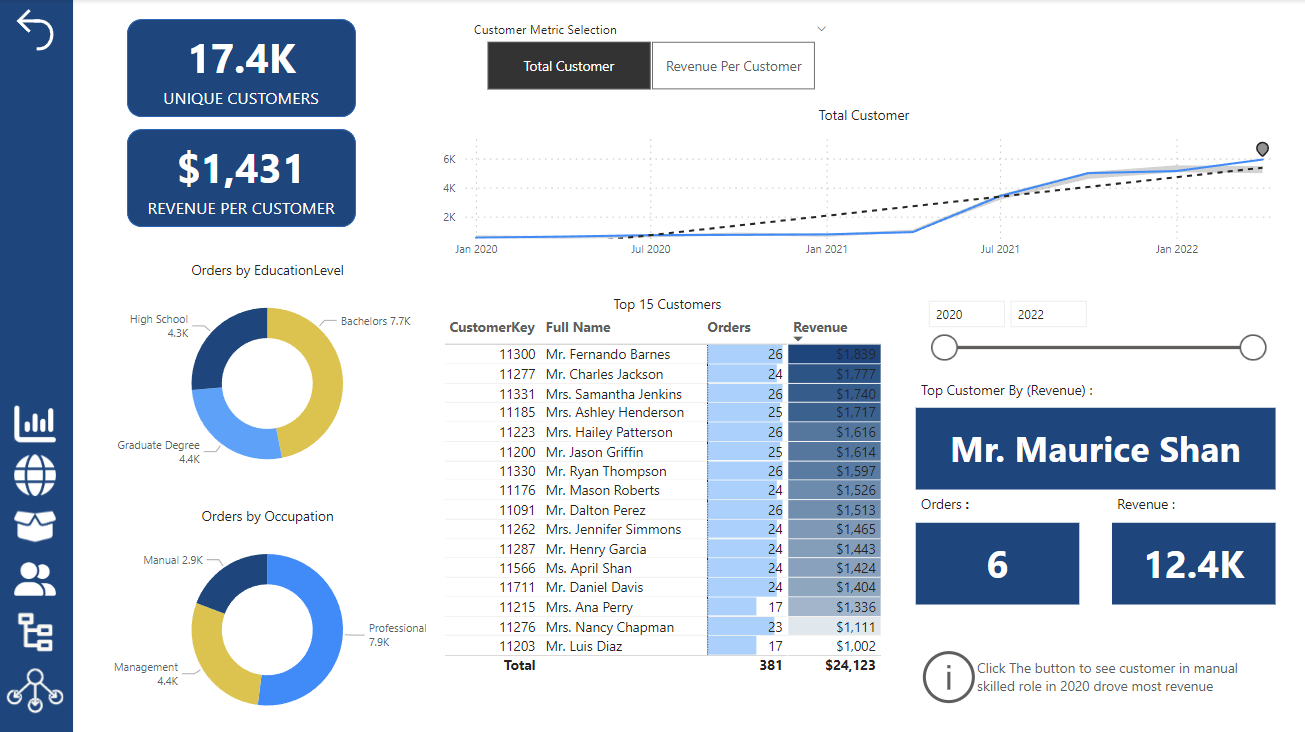

Layout of this report page (visuals, bound fields, positions):
{"tool":"powerbi","page":{"name":"Customer Detail","canvas":[1280,720],"ordinal":3},"visuals":[{"type":"shape","title":"Customer Nav Background","box":[0,0,74.6,720],"z":0},{"type":"actionButton","box":[0,391.3,74.6,48.9],"z":0,"group":"g1"},{"type":"shape","box":[127.4,127.5,224,96],"z":1000},{"type":"actionButton","box":[0,441.7,74.6,48.9],"z":1000,"group":"g1"},{"type":"shape","box":[127.4,19.9,224,96],"z":2000},{"type":"actionButton","box":[0,492.1,74.6,48.9],"z":2000,"group":"g1"},{"type":"card","fields":{"Values":["Measure Table.AvgPerCustomer"]},"box":[127.5,127.3,223.7,96.6],"z":3000},{"type":"actionButton","box":[0,592.8,74.6,52.6],"z":3000,"group":"g1"},{"type":"card","fields":{"Values":["Measure Table.TotalCustomer"]},"box":[127.5,19.7,223.7,96.6],"z":4000},{"type":"actionButton","box":[0,646.9,74.6,63.6],"z":4000,"group":"g1"},{"type":"lineChart","fields":{"Y":["Measure Table.TotalCustomer","Measure Table.AvgPerCustomer"],"Category":["Calendar Lookup.Date.Variation.Date Hierarchy.Year","Calendar Lookup.Date.Variation.Date Hierarchy.Quarter","Calendar Lookup.Date.Variation.Date Hierarchy.Month","Calendar Lookup.Date.Variation.Date Hierarchy.Day"]},"box":[431.5,113.6,832.7,158.2],"z":5000},{"type":"actionButton","box":[0,542.4,74.6,48.9],"z":5000,"group":"g1"},{"type":"donutChart","title":"Orders by EducationLevel","fields":{"Category":["Customer Lookup.EducationLevel"],"Y":["Measure Table.TotalOrders"]},"box":[96,256,336,224],"z":6000},{"type":"donutChart","title":"Orders by Occupation","fields":{"Y":["Measure Table.TotalOrders"],"Category":["Customer Lookup.Occupation"]},"box":[96,496,336,224],"z":7000},{"type":"tableEx","title":"Top 15 Customers","fields":{"Values":["Customer Lookup.CustomerKey","Customer Lookup.Full Name","Measure Table.TotalOrders","Measure Table.TotalRevenue"]},"box":[429.6,321.6,448,384],"z":8000},{"type":"card","fields":{"Values":["Measure Table.FullName-CC"]},"box":[896,433.5,352,80],"z":9000},{"type":"card","fields":{"Values":["Measure Table.TotalOrders-CC"]},"box":[896,545.5,160,80],"z":10000},{"type":"card","fields":{"Values":["Measure Table.TotalRevenue-CC"]},"box":[1088,546,159.7,79.9],"z":11000},{"type":"textbox","box":[896,401.5,352,32],"z":12000},{"type":"textbox","box":[896,513.5,160,32],"z":13000},{"type":"textbox","box":[1088,513.5,160,32],"z":14000},{"type":"slicer","fields":{"Values":["Calendar Lookup.Date.Variation.Date Hierarchy.Year"]},"box":[896.3,318.7,351.4,78.6],"z":15000},{"type":"actionButton","box":[0,3.7,74.6,52.6],"z":16000},{"type":"slicer","fields":{"Values":["Customer Metric Selection.Customer Metric Selection"]},"box":[453.7,17.1,370.5,78.3],"z":18000},{"type":"group","id":"g1","title":"Group 1","box":[0,391.3,74.6,319.2],"z":19000}]}

Visuals, with their boxes on the page's 1280x720 design canvas (x1, y1, x2, y2). These are canvas units, not pixel positions in the 1305x732 screenshot, which may show the page scaled, cropped or inside an application window:
"Customer Nav Background" shape: (0,0,75,720)
actionButton: (0,391,75,440)
shape: (127,128,351,224)
actionButton: (0,442,75,491)
shape: (127,20,351,116)
actionButton: (0,492,75,541)
card - Measure Table.AvgPerCustomer: (128,127,351,224)
actionButton: (0,593,75,645)
card - Measure Table.TotalCustomer: (128,20,351,116)
actionButton: (0,647,75,710)
lineChart - Measure Table.TotalCustomer x Measure Table.AvgPerCustomer: (432,114,1264,272)
actionButton: (0,542,75,591)
"Orders by EducationLevel" donutChart: (96,256,432,480)
"Orders by Occupation" donutChart: (96,496,432,720)
"Top 15 Customers" tableEx: (430,322,878,706)
card - Measure Table.FullName-CC: (896,434,1248,514)
card - Measure Table.TotalOrders-CC: (896,546,1056,626)
card - Measure Table.TotalRevenue-CC: (1088,546,1248,626)
textbox: (896,402,1248,434)
textbox: (896,514,1056,546)
textbox: (1088,514,1248,546)
slicer - Calendar Lookup.Date.Variation.Date Hierarchy.Year: (896,319,1248,397)
actionButton: (0,4,75,56)
slicer - Customer Metric Selection.Customer Metric Selection: (454,17,824,95)
"Group 1" group: (0,391,75,710)
